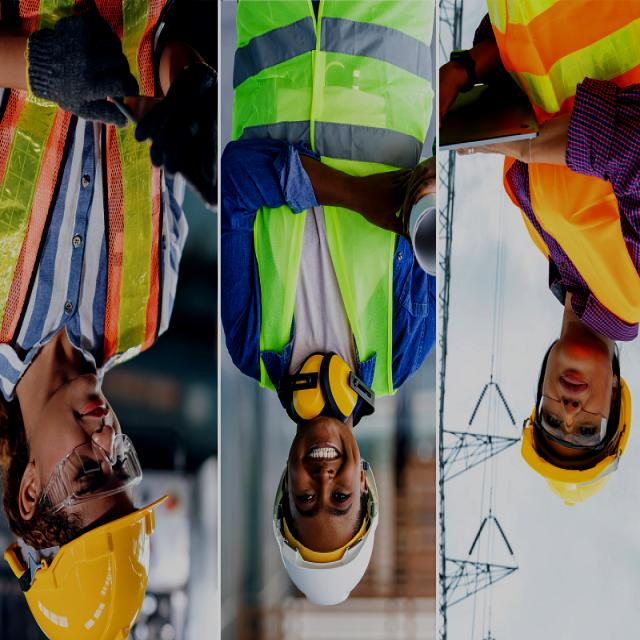Ear Muffs: (284, 352, 372, 430)
Hard Hat: (3, 484, 180, 640), (514, 368, 638, 512), (268, 464, 388, 612)
Reflective Vest: (233, 0, 437, 408), (0, 0, 175, 395), (486, 5, 638, 343)
Safety Glasses: (26, 420, 152, 530), (528, 398, 616, 452)
